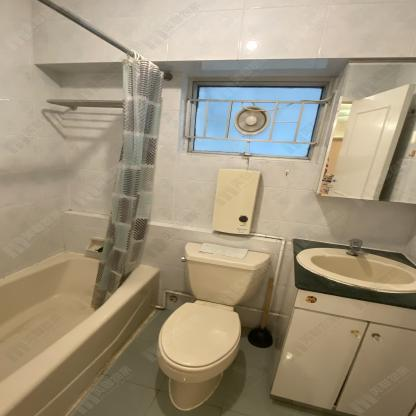Bathtub: (0, 250, 160, 416), (157, 242, 273, 409)
Exhaust Fan: (231, 104, 271, 136)
Toilet Sink: (294, 239, 416, 310)
